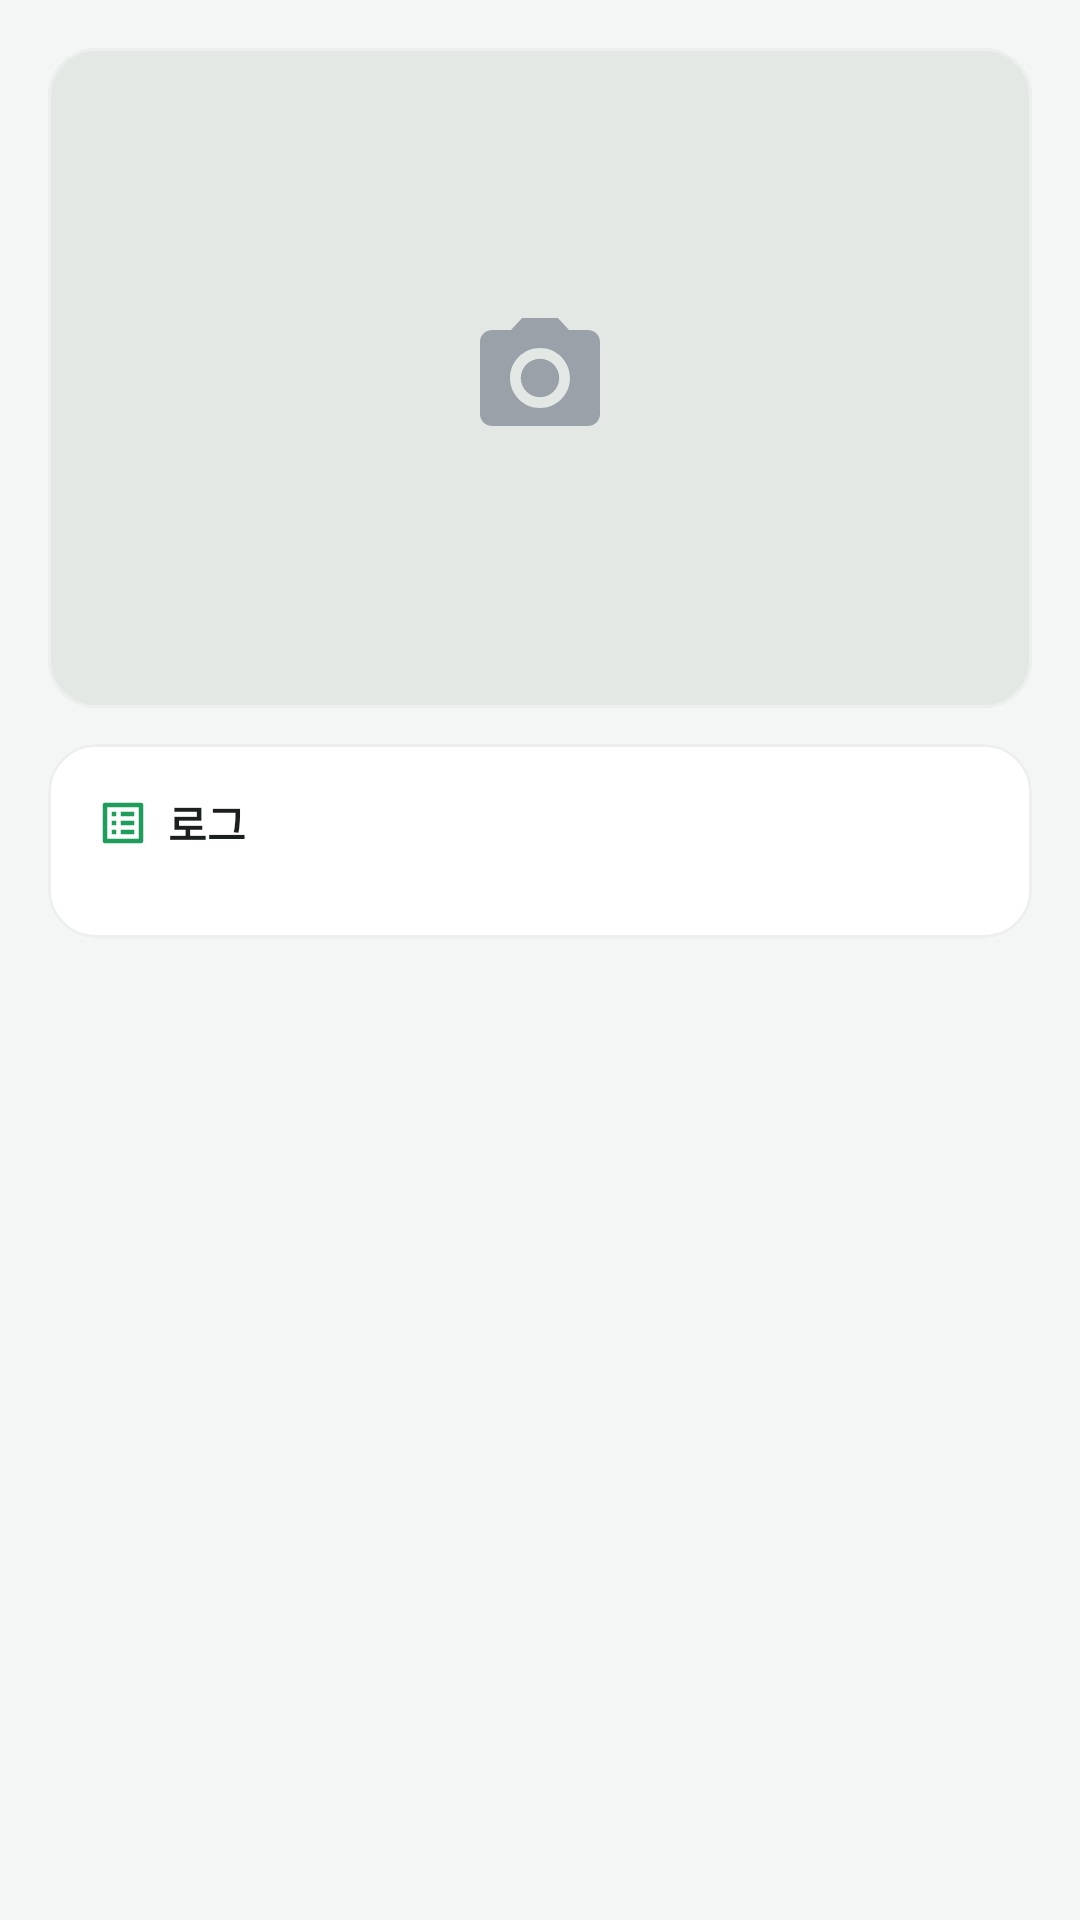

Icons on this 1080*1920 Android screen, each with the point to tap as (x,y):
list: (123,823)
